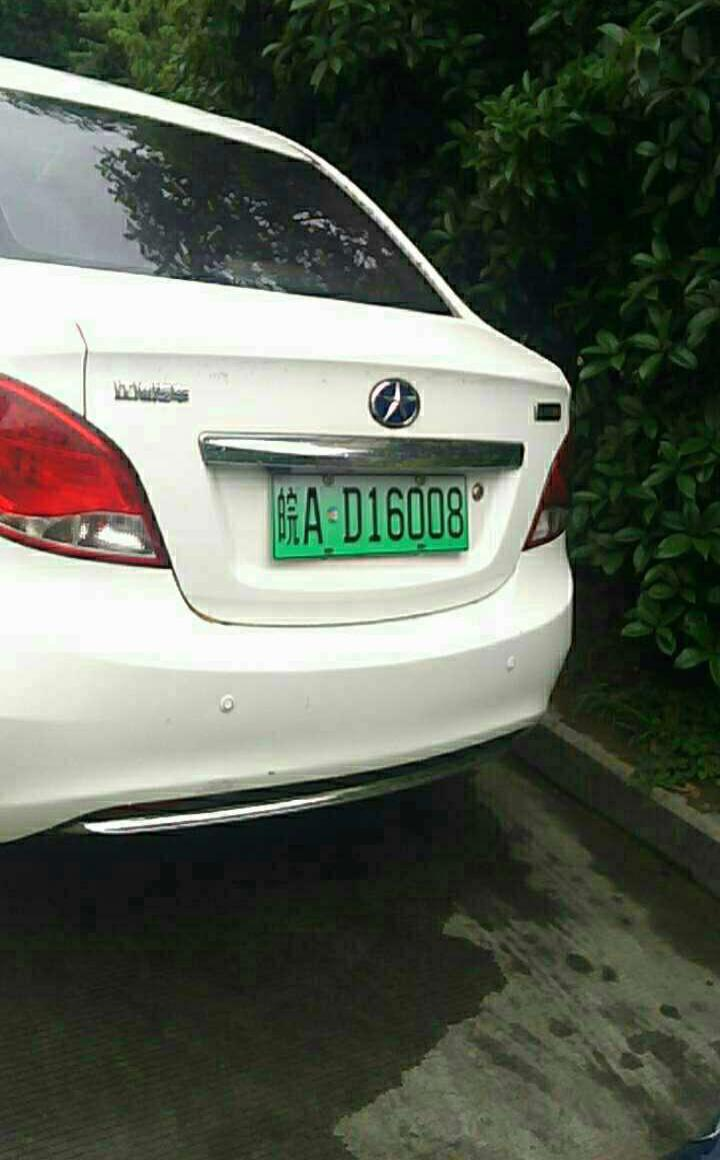car_id: (271, 473, 469, 554)
